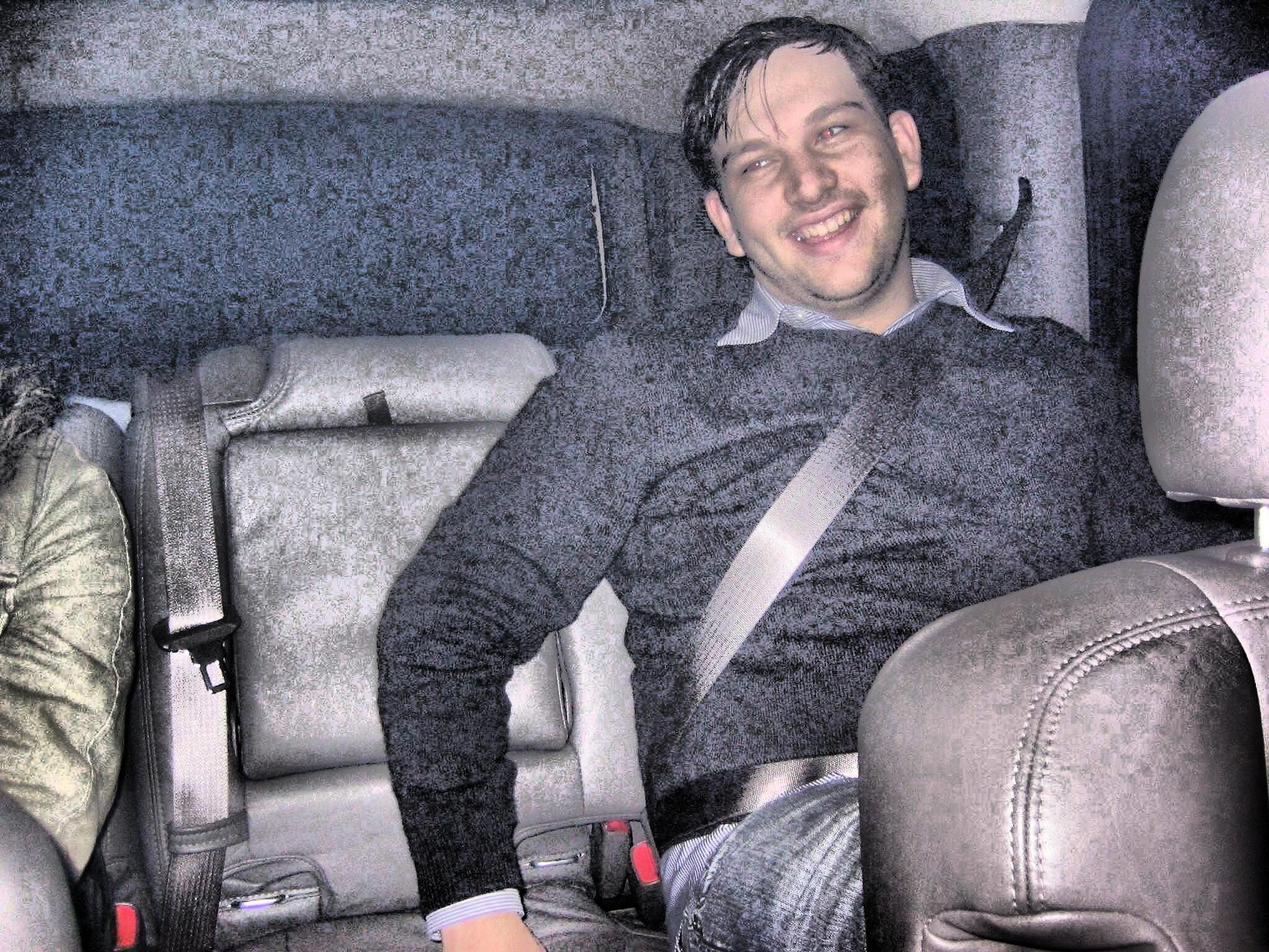seatbelt: (645, 163, 1065, 834), (135, 278, 271, 865)
